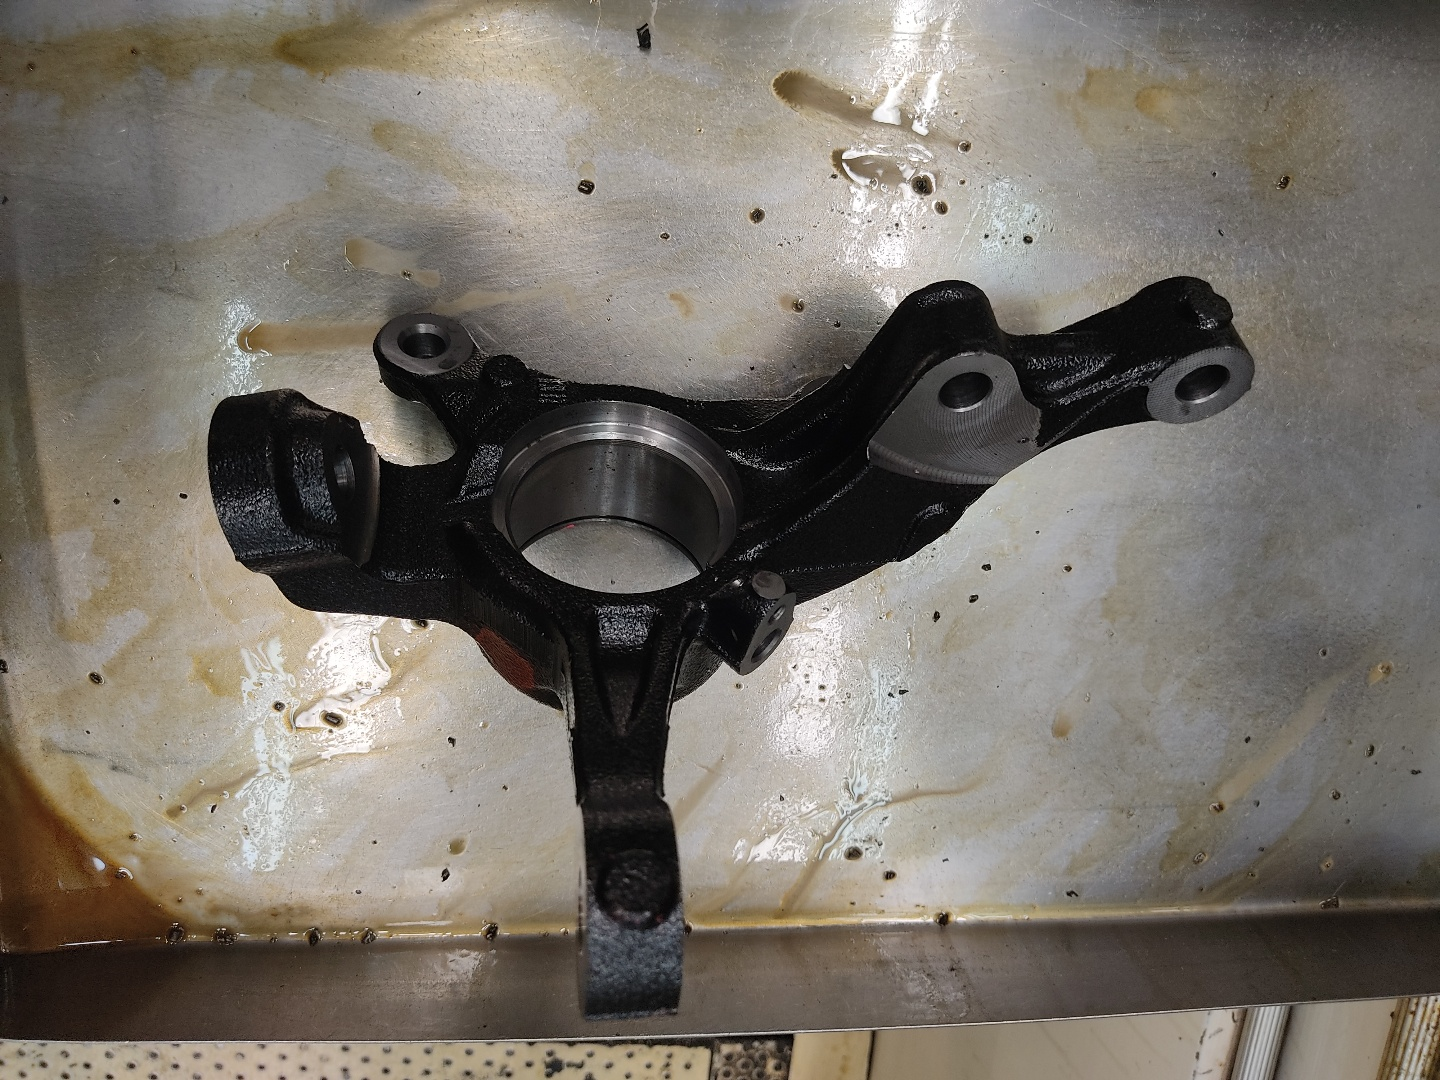abs-rh: (192, 261, 1267, 1031)
